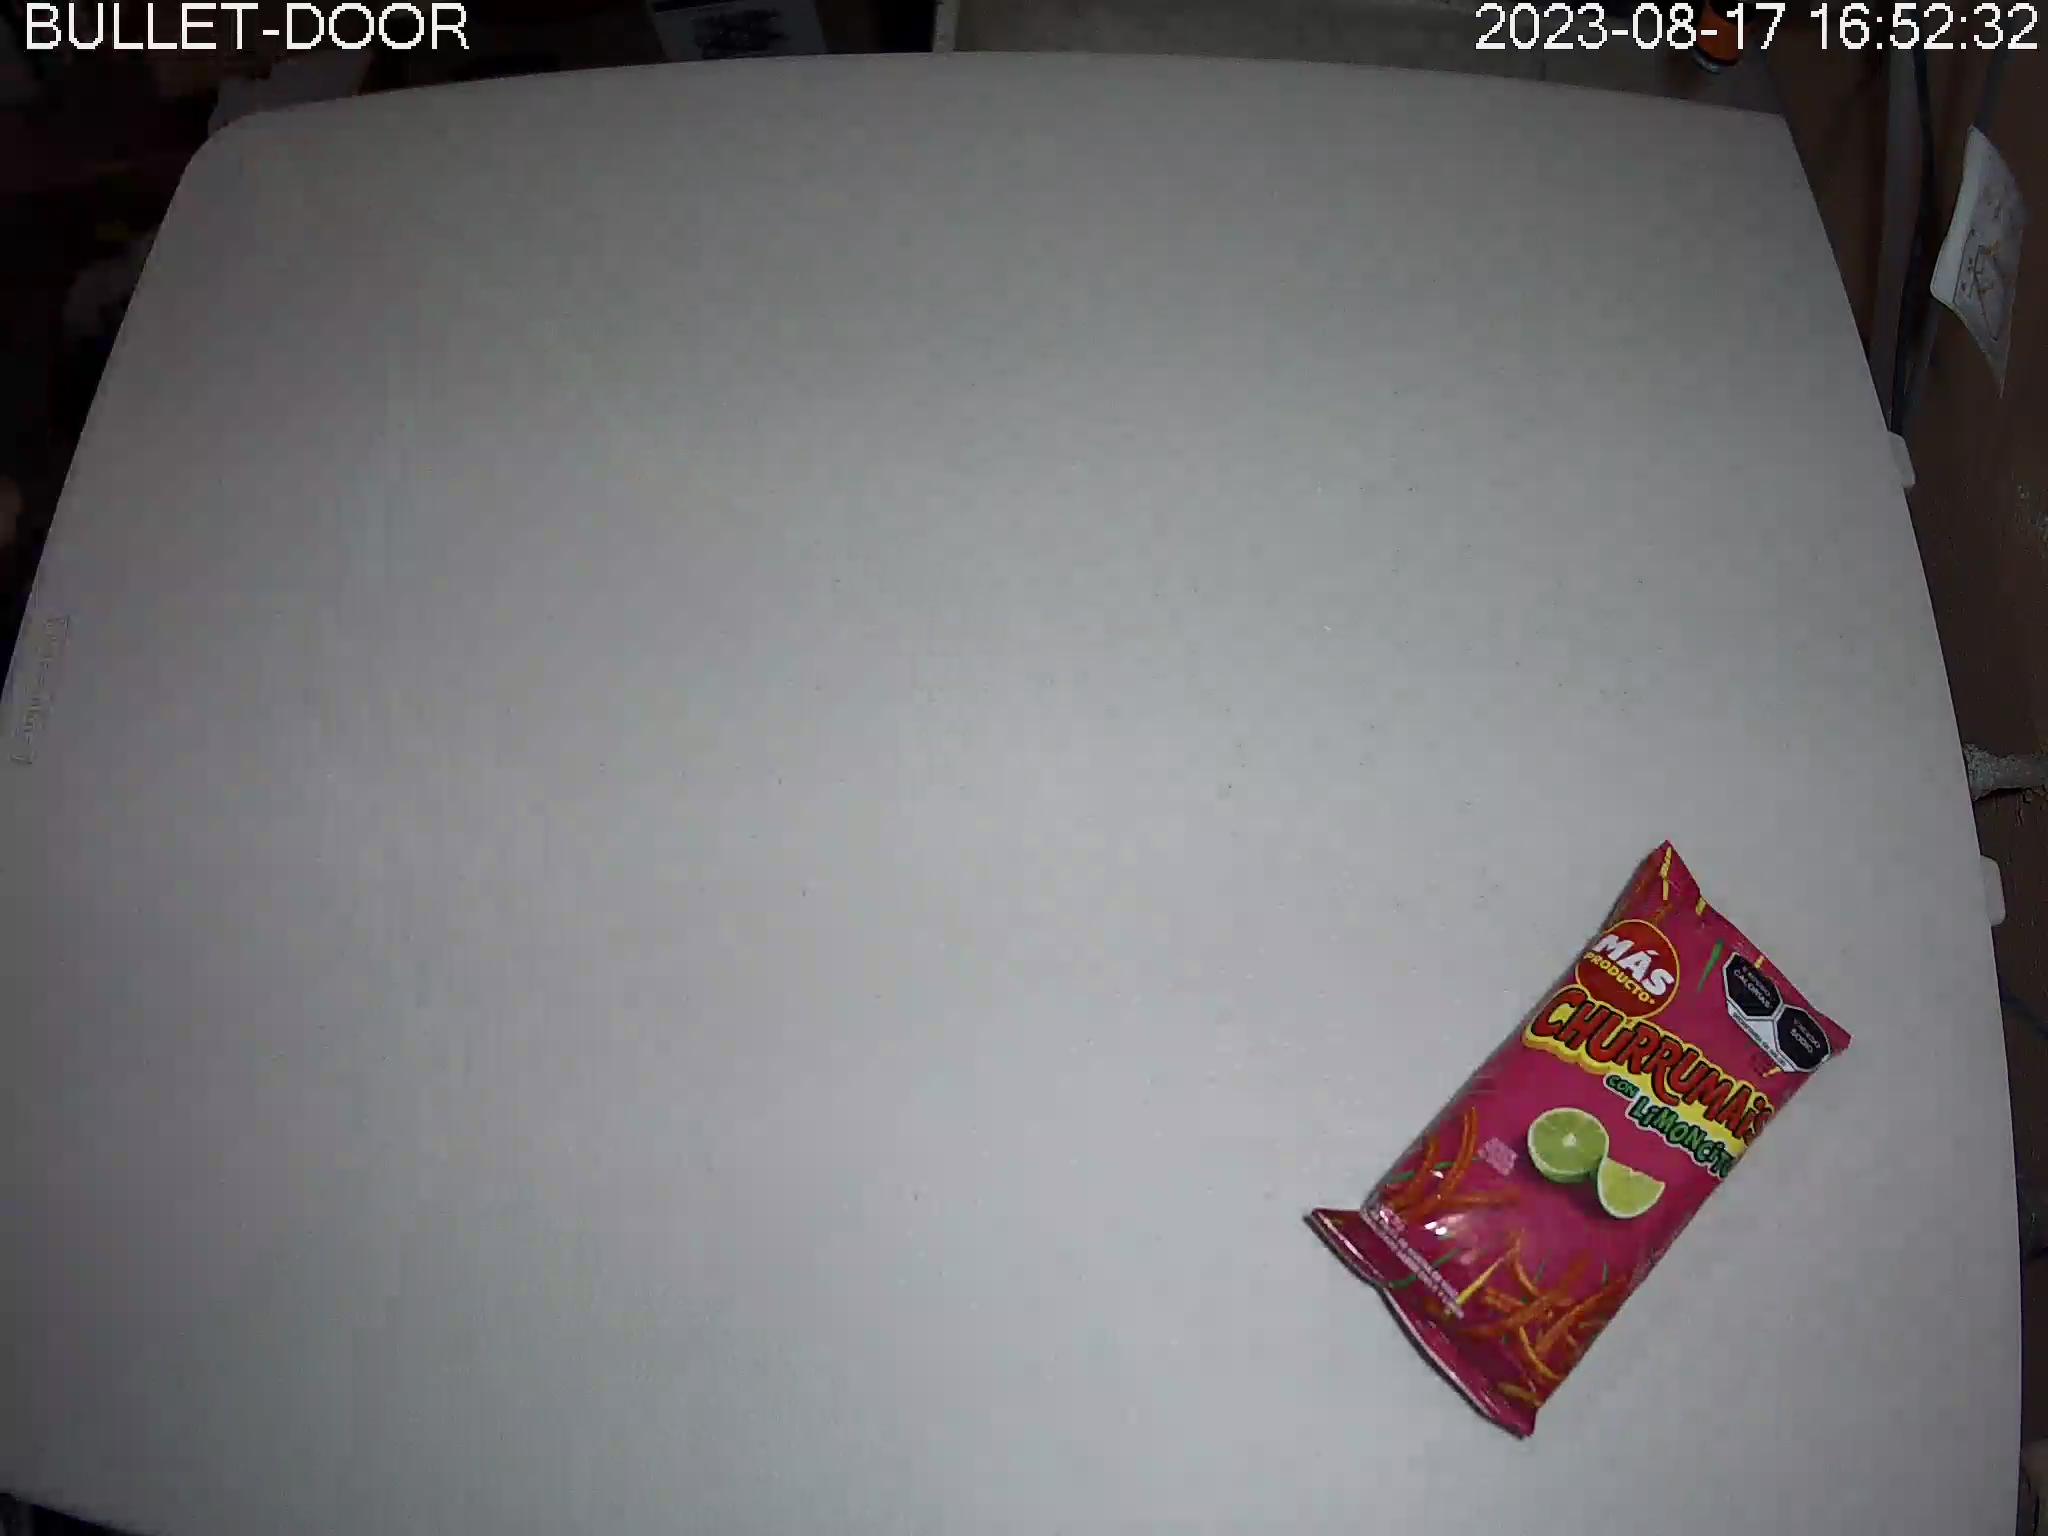Churrumais_70_F: (1309, 839, 1853, 1439)
